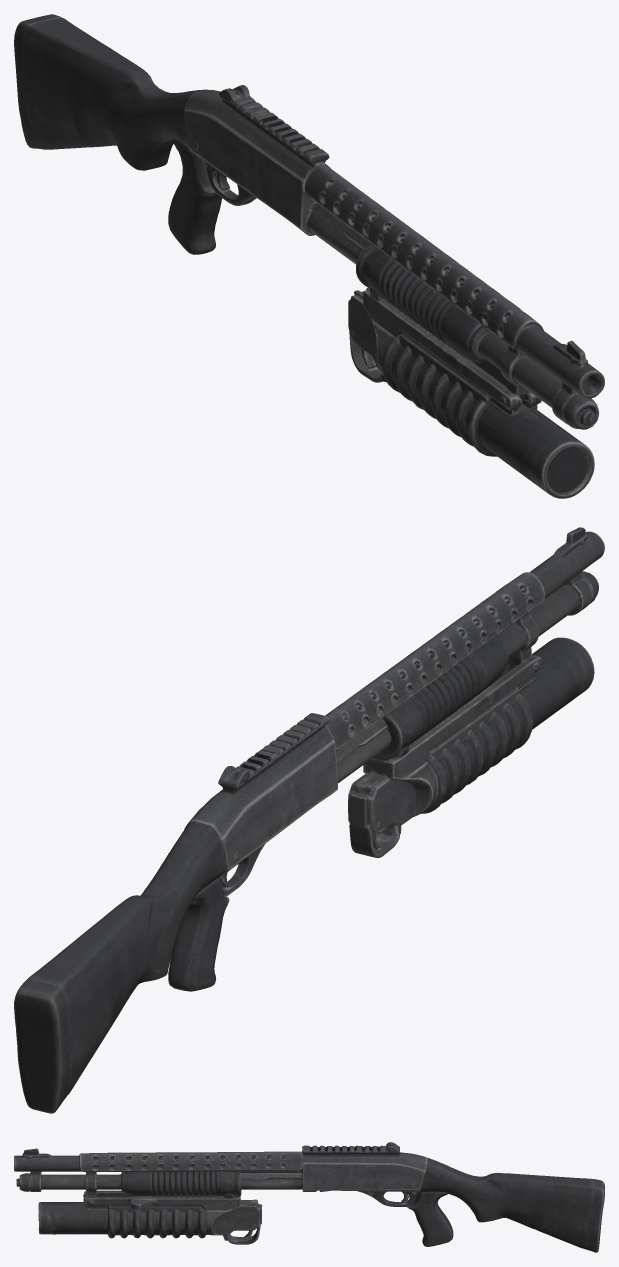
The model's file is vietnam_shotgun.medium.glb.
3 renders of one model, top to bottom at view 1: azimuth 30°, elevation 25°; view 2: azimuth 150°, elevation 25°; view 3: azimuth 270°, elevation 25°, orthographic. The views are drawn at different scales.
Visible parts, largest first — view 1: model; view 2: model; view 3: model.
Boxes of the visible parts, x1=… form: model: x1=14, y1=14, x2=604, y2=498; model: x1=14, y1=527, x2=604, y2=1113; model: x1=14, y1=1142, x2=604, y2=1252.
Bounding box in the file's own units: 0.0705 × 0.1979 × 1.
1 material, 1 textured.
